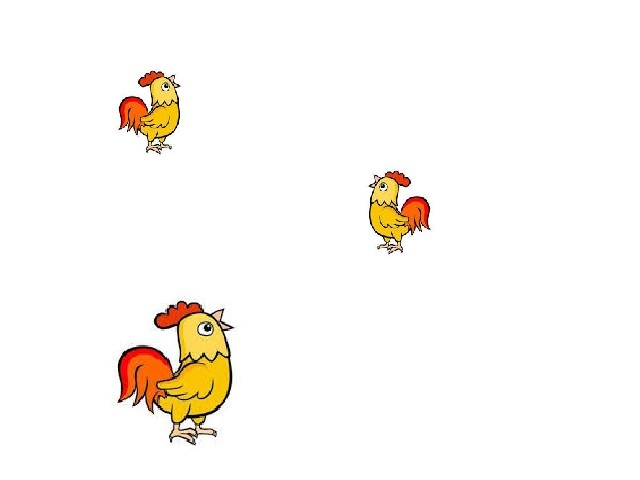crown: (148, 298, 203, 326), (387, 168, 410, 186), (139, 70, 166, 84)
eyes: (197, 321, 212, 336), (157, 82, 172, 93), (376, 181, 389, 192)
feet: (166, 425, 219, 447), (374, 238, 404, 254), (144, 139, 172, 154)
tail: (122, 351, 167, 412), (405, 197, 439, 237), (119, 96, 152, 133)
